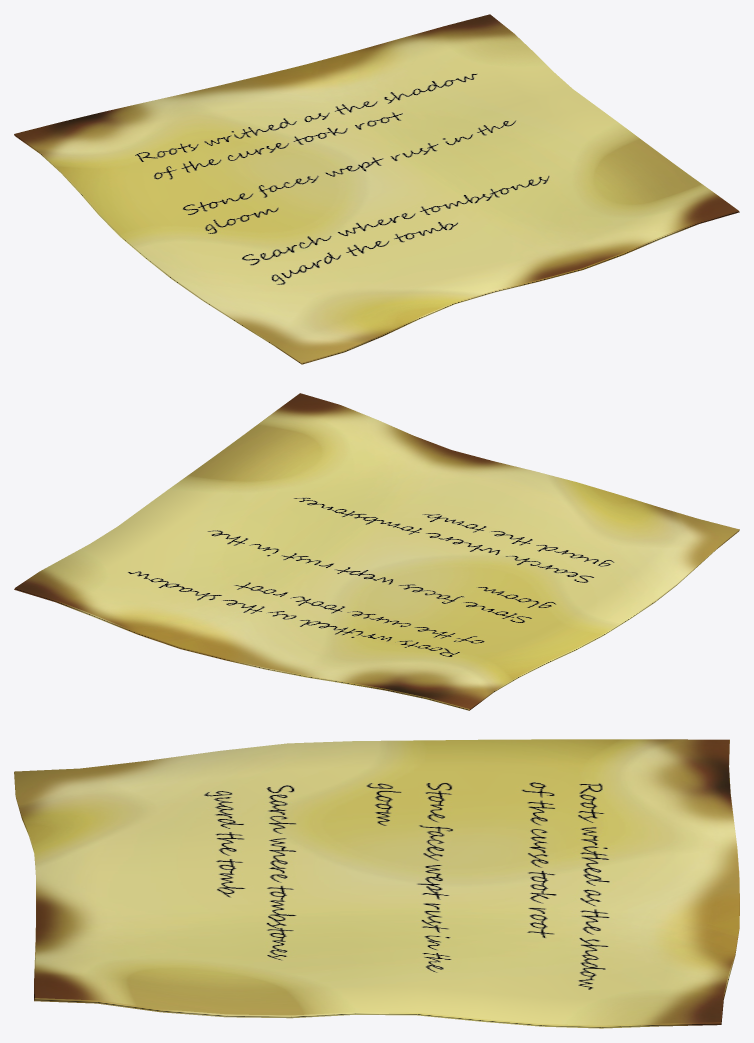
File: Paper2.glb
3 renders of one model, top to bottom at view 1: azimuth 30°, elevation 25°; view 2: azimuth 150°, elevation 25°; view 3: azimuth 270°, elevation 25°, orthographic. The views are drawn at different scales.
Parts seen in each view (by area): view 1: Plane; view 2: Plane; view 3: Plane.
Part boxes in pixels (bbox=[...]): Plane: bbox=[14, 14, 739, 364]; Plane: bbox=[14, 393, 739, 710]; Plane: bbox=[14, 739, 739, 1028].
Bounding box in the file's own units: 0.8607 × 0.0672 × 0.8722.
1 material, 1 textured.
